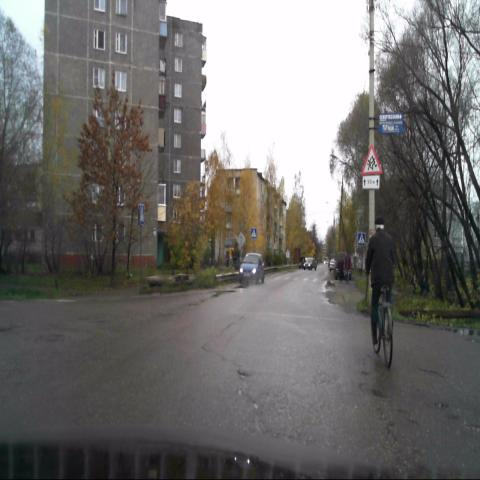8_2_1: (362, 176, 380, 189)
